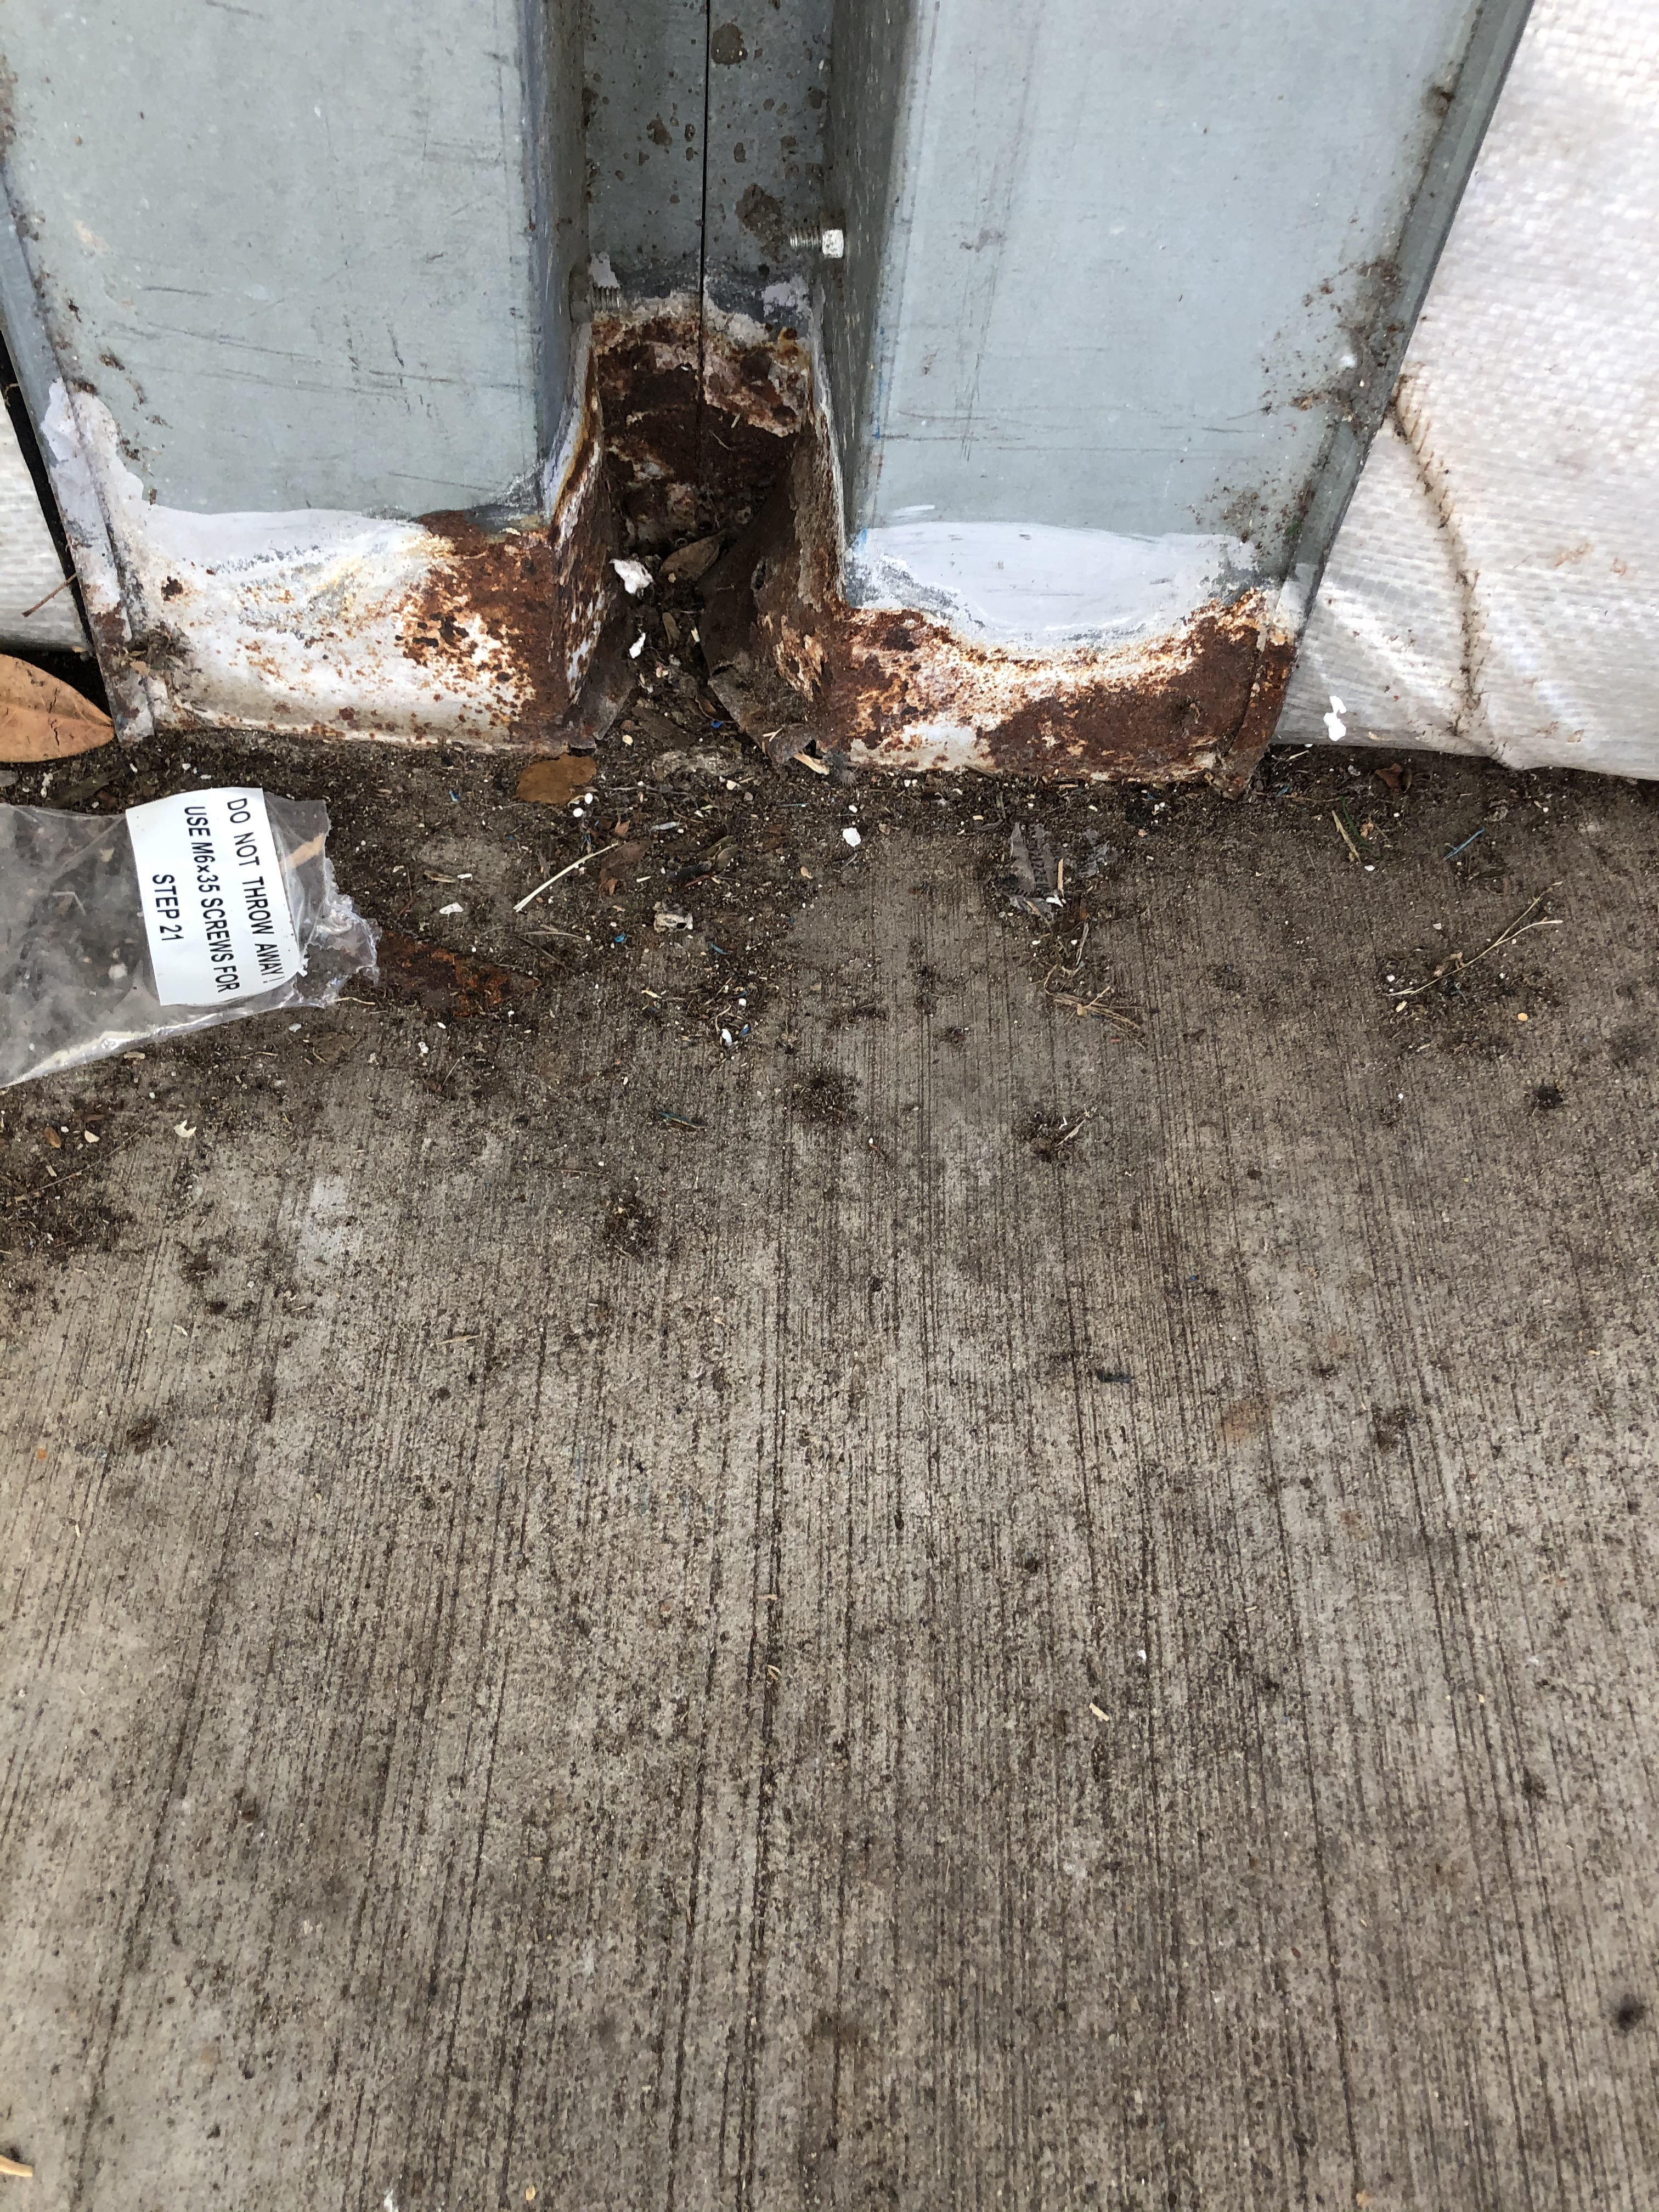rust: (469, 538, 887, 770)
